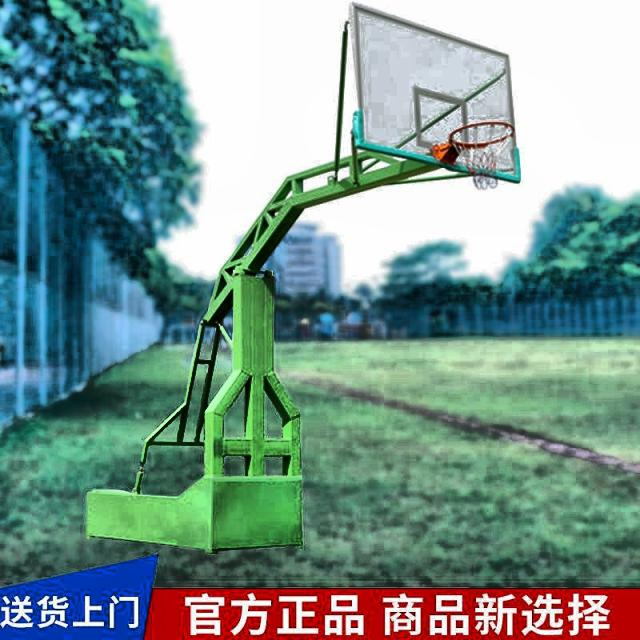rim: (451, 121, 515, 190)
